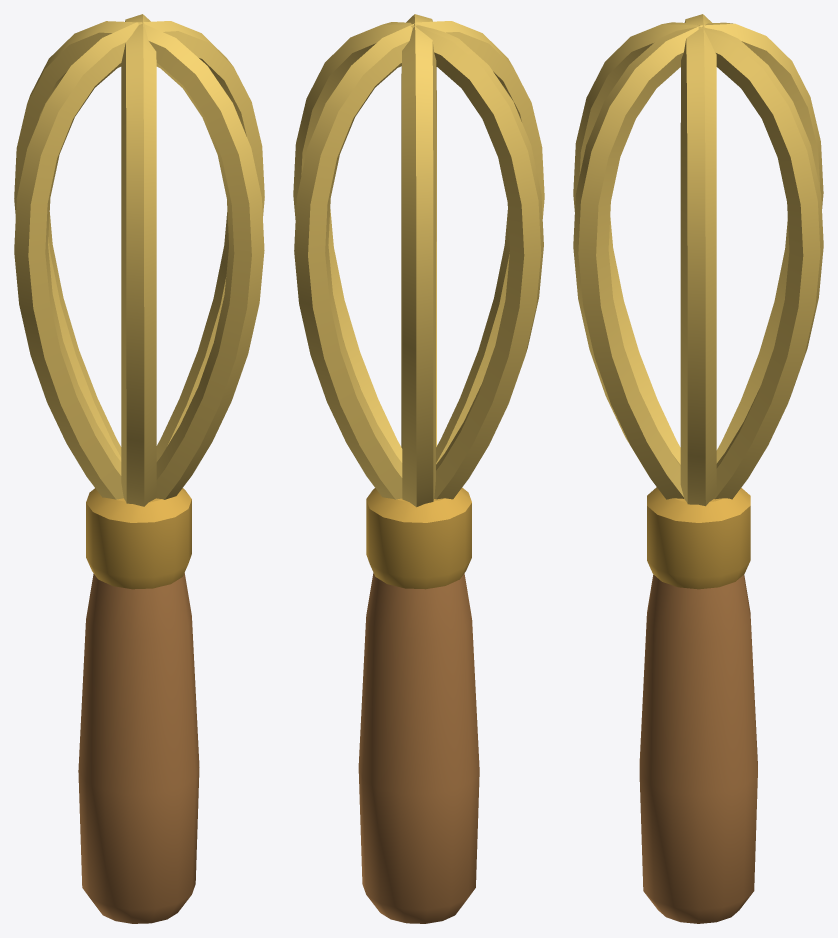
Rendered from sig_whisk.gltf.
3 views of the same model, side by side, from view 1: azimuth 30°, elevation 25°; view 2: azimuth 150°, elevation 25°; view 3: azimuth 270°, elevation 25° (orthographic).
Parts seen in each view (by area): view 1: sig_whisk; view 2: sig_whisk; view 3: sig_whisk.
Boxes of the visible parts, bbox=[...] form: sig_whisk: bbox=[14, 14, 264, 923]; sig_whisk: bbox=[293, 14, 544, 923]; sig_whisk: bbox=[573, 14, 823, 923].
Size of the model in its own units: 1.25 by 4.28 by 1.1.
